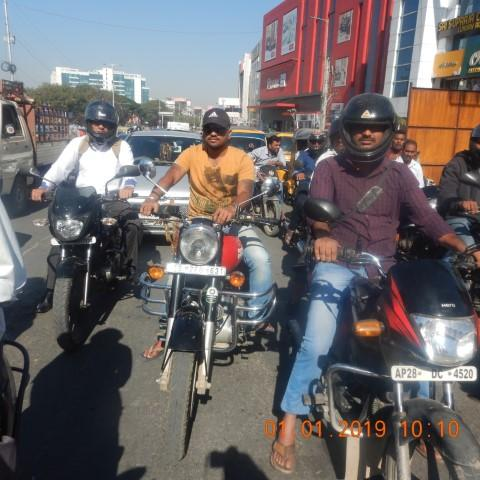plate: (393, 367, 476, 382), (166, 261, 227, 278)
